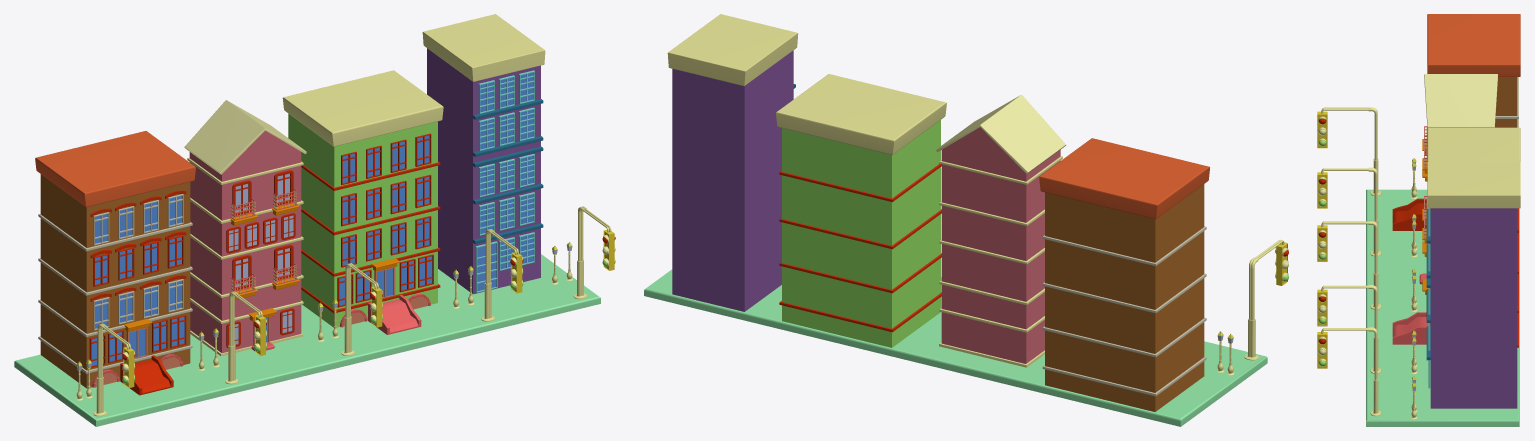
The model's file is Building01.fbx.
3 views of the same model, side by side, from view 1: azimuth 30°, elevation 25°; view 2: azimuth 150°, elevation 25°; view 3: azimuth 270°, elevation 25° (orthographic). The views are drawn at different scales.
Visible parts, largest first — view 1: polySurface24, polySurface5, pCube85, polySurface13, polySurface2, pCube104, pCube8, pCylinder16, pCylinder31, pCylinder29, pCylinder21, pCube81 (+7 smaller); view 2: polySurface24, polySurface5, polySurface13, polySurface2, pCube85, pCylinder16, polySurface25, polySurface26, polySurface27, polySurface28, polySurface10, polySurface11 (+2 smaller); view 3: polySurface13, pCube85, polySurface24, polySurface2, polySurface5, pCube8, pCylinder22, pCylinder28, pCylinder14, pCylinder30, pCylinder20, pCube104.
Boxes of the visible parts, <box> form: polySurface24: <box>35,131,195,388</box>; polySurface5: <box>282,70,443,327</box>; pCube85: <box>14,254,600,426</box>; polySurface13: <box>422,14,545,294</box>; polySurface2: <box>184,100,306,353</box>; pCube104: <box>120,355,173,395</box>; pCube8: <box>368,295,421,334</box>; pCylinder16: <box>93,324,131,416</box>; pCylinder31: <box>481,229,519,321</box>; pCylinder29: <box>341,263,379,355</box>; pCylinder21: <box>225,292,263,384</box>; pCube81: <box>475,241,497,292</box>; polySurface24: <box>1039,138,1209,411</box>; polySurface5: <box>776,74,946,347</box>; polySurface13: <box>667,14,798,311</box>; polySurface2: <box>936,94,1065,363</box>; pCube85: <box>644,269,1267,426</box>; pCylinder16: <box>1248,240,1288,360</box>; polySurface25: <box>1042,226,1206,266</box>; polySurface26: <box>1042,273,1206,313</box>; polySurface27: <box>1042,317,1206,357</box>; polySurface28: <box>1042,356,1206,396</box>; polySurface10: <box>779,253,941,293</box>; polySurface11: <box>779,292,941,332</box>; polySurface13: <box>1427,162,1520,408</box>; pCube85: <box>1366,189,1519,426</box>; polySurface24: <box>1427,14,1520,127</box>; polySurface2: <box>1424,74,1497,127</box>; polySurface5: <box>1427,127,1520,161</box>; pCube8: <box>1392,312,1428,344</box>; pCylinder22: <box>1317,328,1381,416</box>; pCylinder28: <box>1317,221,1381,309</box>; pCylinder14: <box>1317,108,1381,195</box>; pCylinder30: <box>1317,286,1381,373</box>; pCylinder20: <box>1317,168,1381,256</box>; pCube104: <box>1392,198,1427,230</box>.
Size of the model in its own units: 1876 by 836 by 697.
